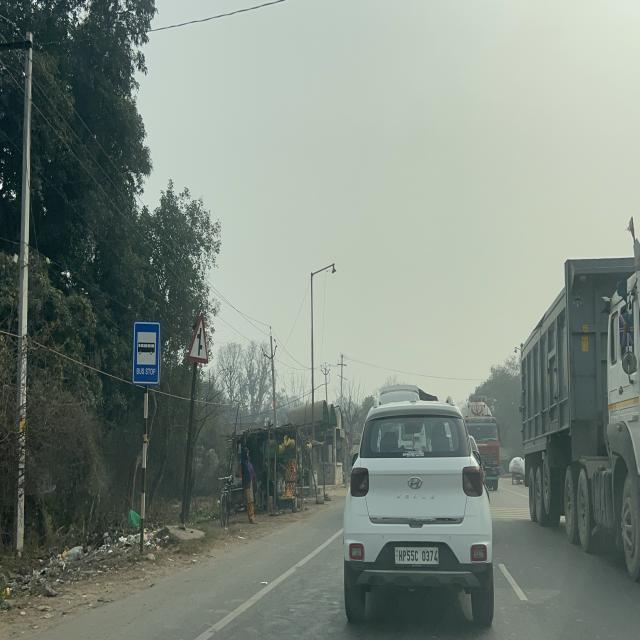INFORMATION: (132, 321, 161, 384)
STAGGERED_INTERSECTION: (186, 312, 209, 364)
